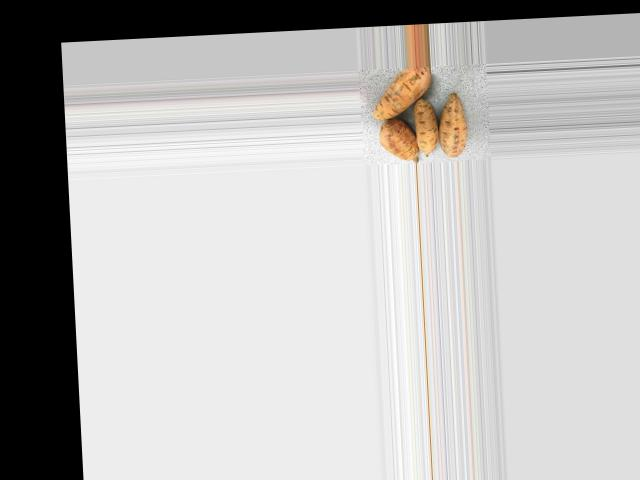sweet_potato: (365, 65, 440, 120)
